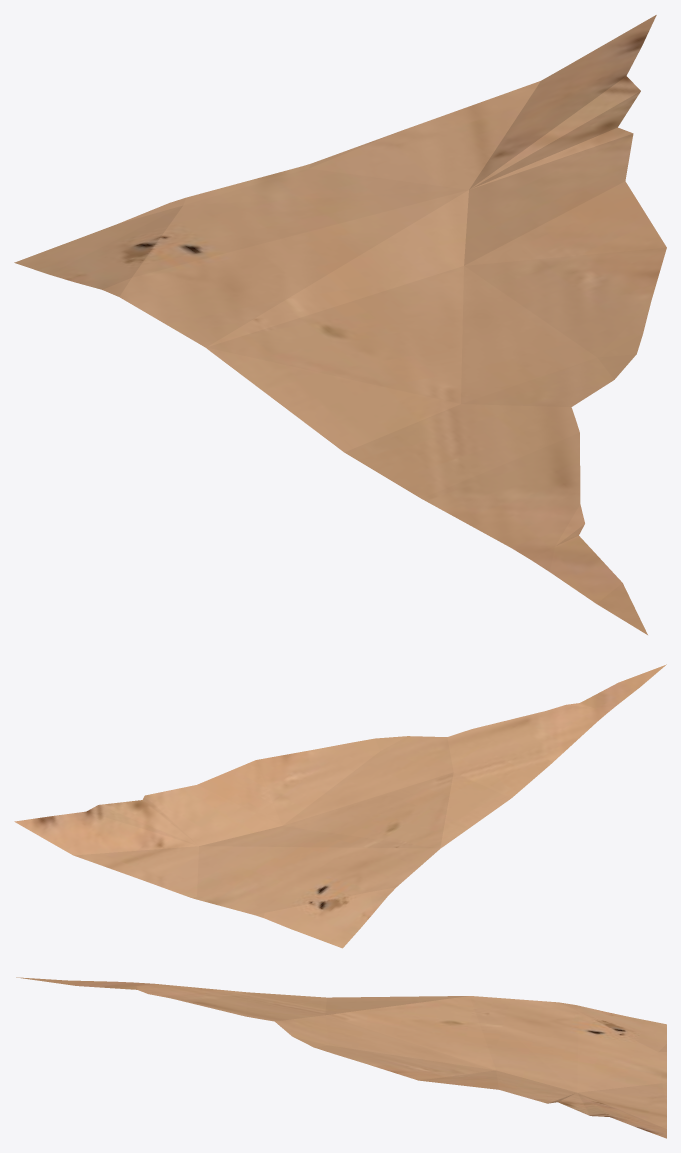
The picture shows the model from 3 angles, top to bottom: view 1: azimuth 30°, elevation 25°; view 2: azimuth 150°, elevation 25°; view 3: azimuth 270°, elevation 25°; orthographic projection. The views are drawn at different scales.
Size of the model in its own units: 0.7263 by 0.0988 by 1.24.
1 material, 1 textured.
